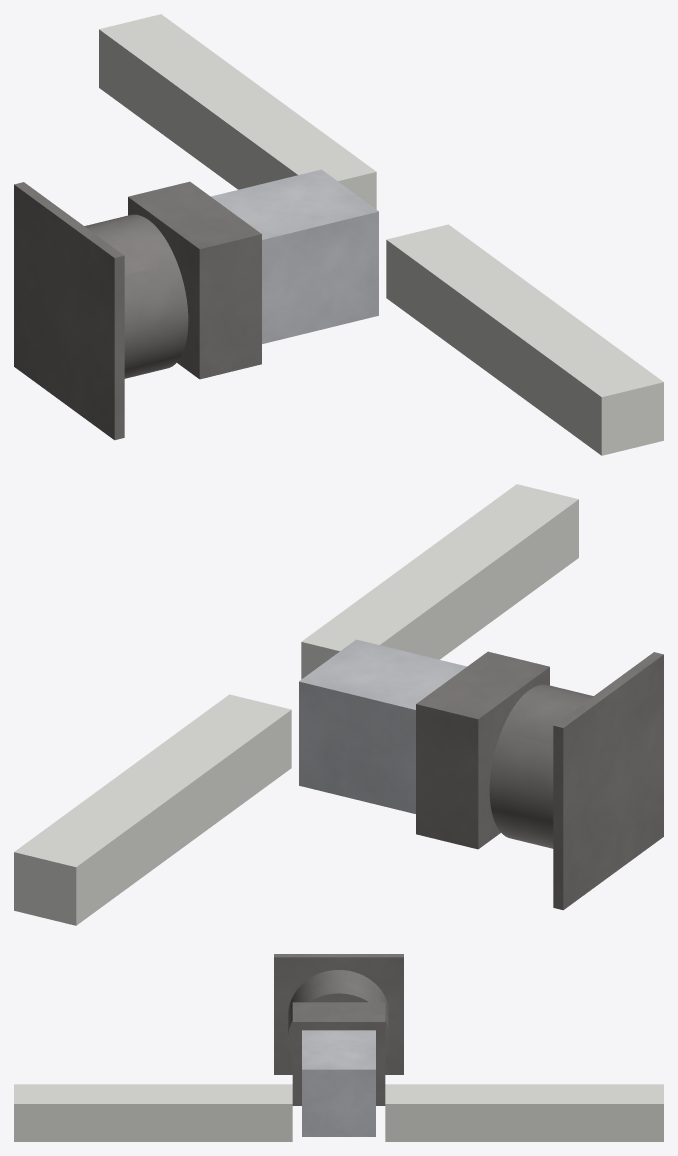
File: power01_solar_wing.glb
3 views of the same model, one above another, from view 1: azimuth 30°, elevation 25°; view 2: azimuth 150°, elevation 25°; view 3: azimuth 270°, elevation 25° (orthographic). The views are drawn at different scales.
Visible parts, largest first — view 1: blanket_boxes, beta_gimbal, mast_canister; view 2: blanket_boxes, beta_gimbal, mast_canister; view 3: blanket_boxes, beta_gimbal, mast_canister.
Part boxes in pixels (bbox=[...]): blanket_boxes: bbox=[99, 14, 663, 455]; beta_gimbal: bbox=[14, 181, 261, 440]; mast_canister: bbox=[211, 169, 378, 343]; blanket_boxes: bbox=[14, 484, 578, 925]; beta_gimbal: bbox=[416, 651, 663, 910]; mast_canister: bbox=[299, 639, 466, 813]; blanket_boxes: bbox=[14, 1084, 663, 1141]; beta_gimbal: bbox=[274, 954, 403, 1105]; mast_canister: bbox=[302, 1030, 375, 1136].
Size of the model in its own units: 2.8 by 1.4 by 7.
Materials: 3 (2 with a texture image).
